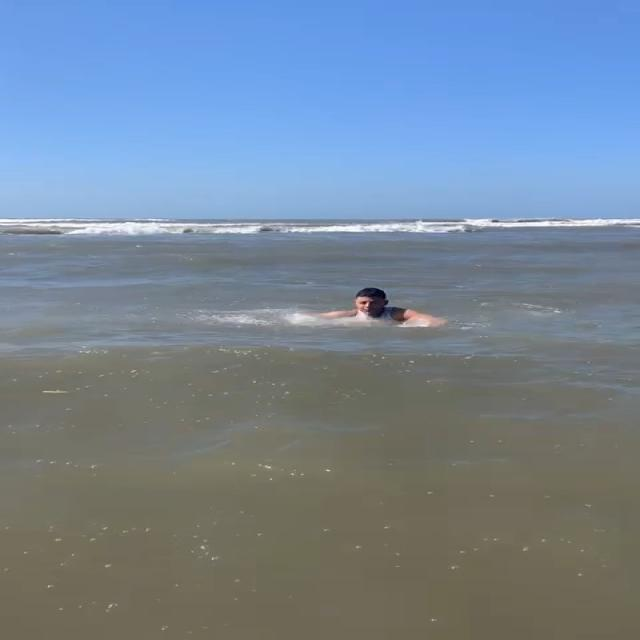Out of Water: (302, 286, 446, 331)
